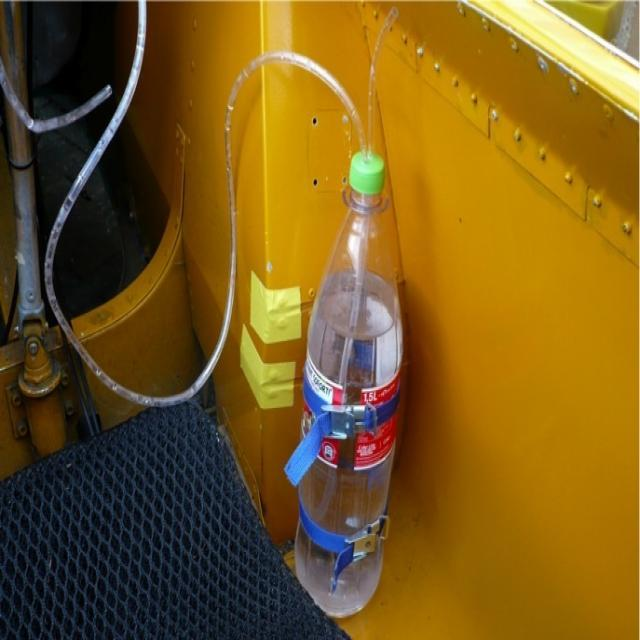plastic_bottle: (295, 152, 403, 618)
